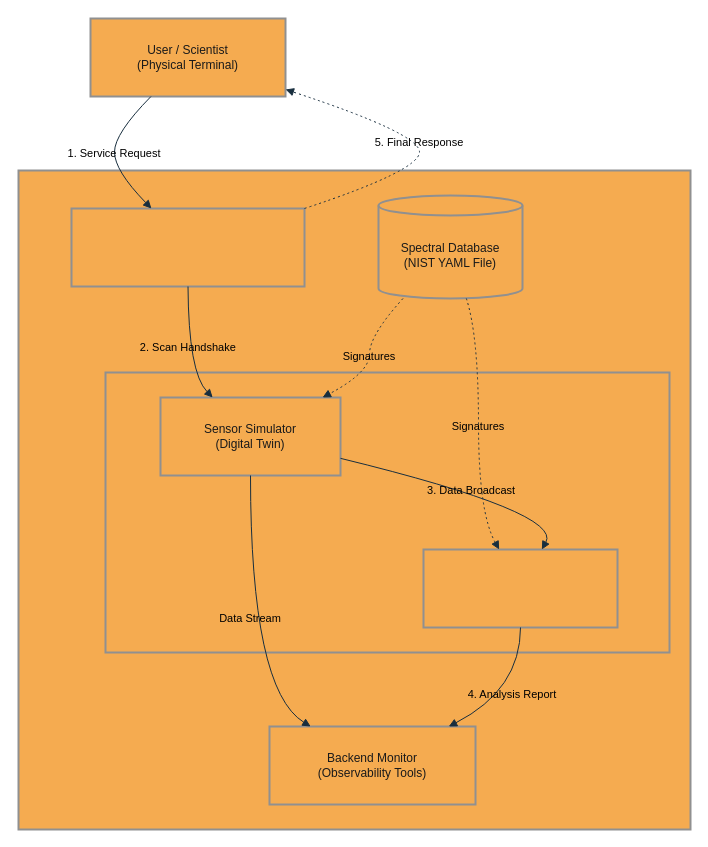
The diagram is 708 pixels wide and 847 high, and some of its shapes have lost their labels. Each missing label, with the box of its shape:
Measurement Controller (System Orchestrator): (70, 207, 305, 287)
Sensor & Intelligence Pipeline: (104, 371, 670, 653)
Spectrum Analyzer (Signal Brain): (422, 548, 618, 628)
